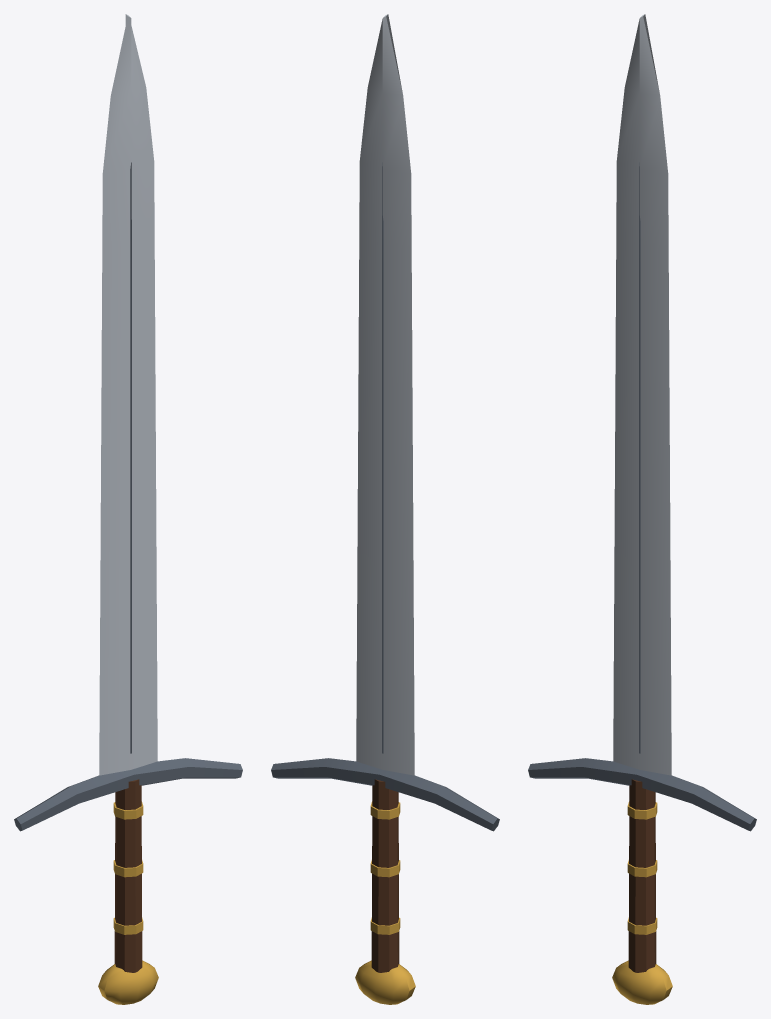
The model's file is TwoHandSword.fbx.
The picture shows the model from 3 angles, left to right: view 1: azimuth 30°, elevation 25°; view 2: azimuth 150°, elevation 25°; view 3: azimuth 330°, elevation 25°; orthographic projection.
Visible parts, largest first — view 1: TwoHandSword; view 2: TwoHandSword; view 3: TwoHandSword.
Part boxes in pixels (box(x1,y1,x2,y2)): TwoHandSword: box(14, 14, 242, 1004); TwoHandSword: box(271, 14, 499, 1004); TwoHandSword: box(528, 14, 756, 1004).
Size of the model in its own units: 0.3253 by 1.36 by 0.0512.
